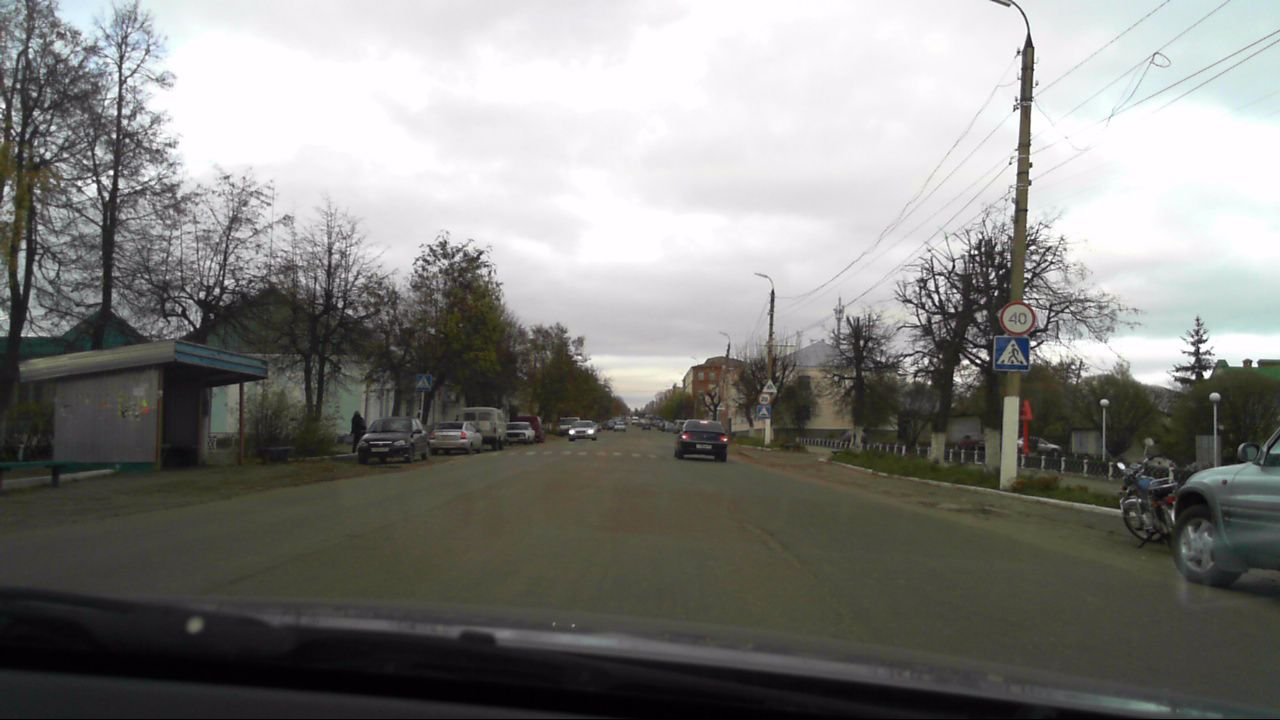speed_warning_40: (999, 301, 1037, 334)
